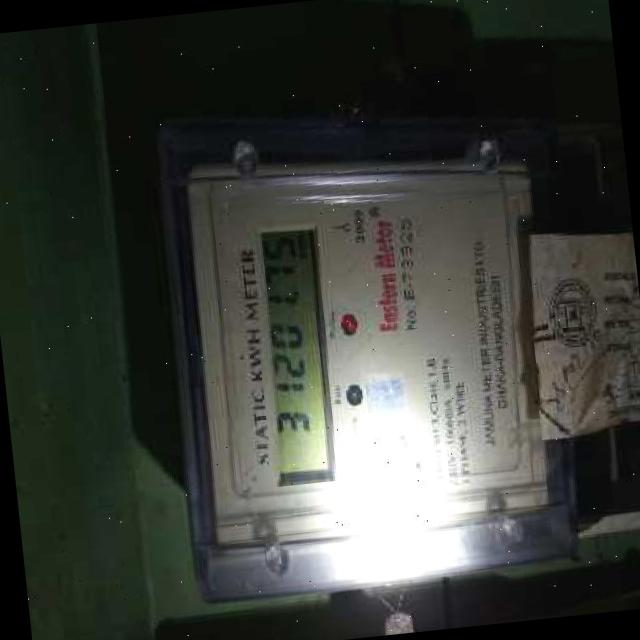LCD: (239, 214, 354, 499)
